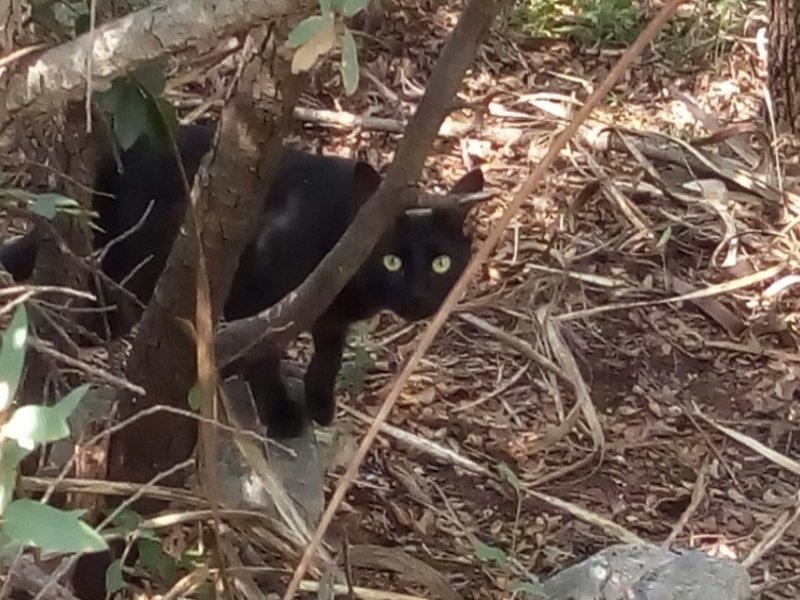cat: (8, 113, 489, 443)
